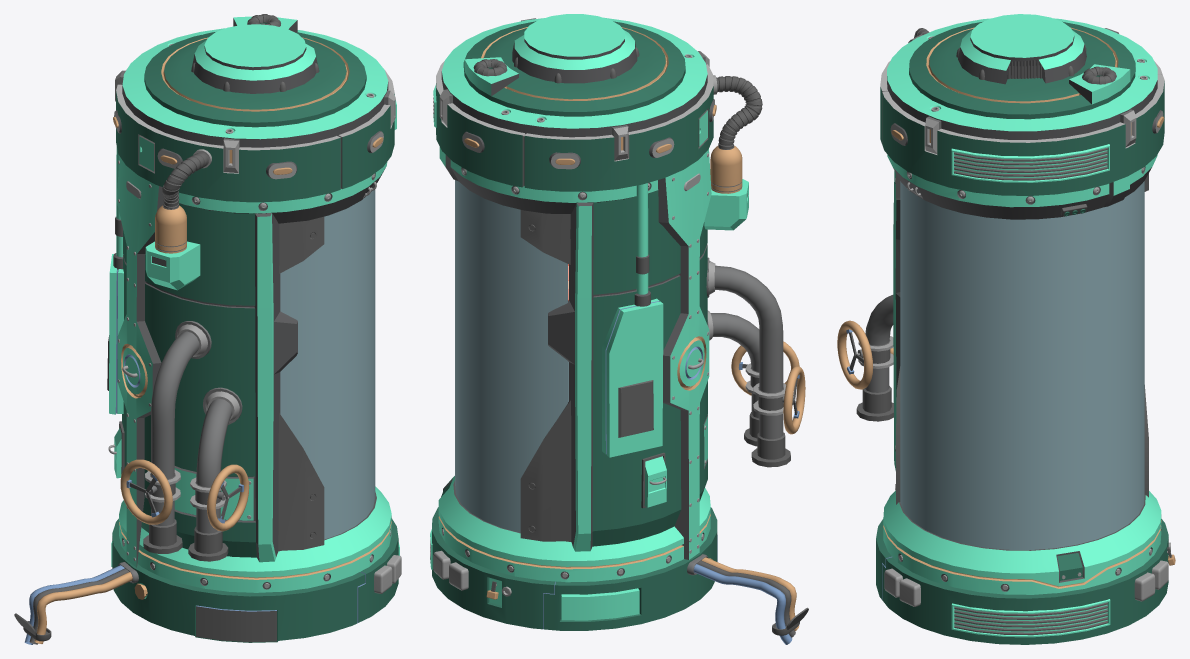
Rendered from brainMachine555555.fbx.
3 views of the same model, side by side, from view 1: azimuth 30°, elevation 25°; view 2: azimuth 150°, elevation 25°; view 3: azimuth 270°, elevation 25° (orthographic). The views are drawn at different scales.
Visible parts, largest first — view 1: Capsule:polySurface92.005, Capsule:Glass.005, Capsule:polySurface115.005, Capsule:polySurface106.005, Capsule:polySurface108.005, Capsule:polySurface89.005, Capsule:polySurface91.005, Capsule:polySurface107.005, Capsule:pCylinder106.005, Capsule:polySurface94.005, Capsule:polySurface54.011, Capsule:polySurface104.005 (+11 smaller); view 2: Capsule:Glass.005, Capsule:polySurface92.005, Capsule:polySurface106.005, Capsule:polySurface115.005, Capsule:polySurface91.005, Capsule:polySurface89.005, Capsule:polySurface108.005, Capsule:polySurface107.005, Capsule:polySurface94.005, Capsule:polySurface14.005, Capsule:pCylinder106.005, Capsule:polySurface54.011 (+12 smaller); view 3: Capsule:Glass.005, Capsule:polySurface89.005, Capsule:polySurface106.005, Capsule:polySurface108.005, Capsule:polySurface115.005, Capsule:polySurface107.005, Capsule:pCylinder106.005, Capsule:polySurface104.005, Capsule:polySurface29.011, Capsule:polySurface29.010, Capsule:polySurface92.005, Capsule:polySurface54.010 (+17 smaller).
Boxes of the visible parts, <box> form: Capsule:polySurface92.005: <box>122,203,297,562</box>; Capsule:Glass.005: <box>280,189,375,539</box>; Capsule:polySurface115.005: <box>111,518,398,642</box>; Capsule:polySurface106.005: <box>116,68,394,202</box>; Capsule:polySurface108.005: <box>144,16,366,127</box>; Capsule:polySurface89.005: <box>119,486,391,592</box>; Capsule:polySurface91.005: <box>116,156,163,567</box>; Capsule:polySurface107.005: <box>122,28,388,147</box>; Capsule:pCylinder106.005: <box>192,24,317,93</box>; Capsule:polySurface94.005: <box>278,216,324,551</box>; Capsule:polySurface54.011: <box>151,331,199,525</box>; Capsule:polySurface104.005: <box>179,162,387,223</box>; Capsule:Glass.005: <box>455,180,568,532</box>; Capsule:polySurface92.005: <box>548,190,707,551</box>; Capsule:polySurface106.005: <box>436,61,713,191</box>; Capsule:polySurface115.005: <box>432,507,717,630</box>; Capsule:polySurface91.005: <box>658,149,711,559</box>; Capsule:polySurface89.005: <box>438,476,710,582</box>; Capsule:polySurface108.005: <box>463,21,685,116</box>; Capsule:polySurface107.005: <box>441,17,707,137</box>; Capsule:polySurface94.005: <box>520,210,571,541</box>; Capsule:polySurface14.005: <box>602,298,663,457</box>; Capsule:pCylinder106.005: <box>512,14,637,83</box>; Capsule:polySurface54.011: <box>714,265,783,439</box>; Capsule:Glass.005: <box>900,181,1144,549</box>; Capsule:polySurface89.005: <box>883,490,1161,594</box>; Capsule:polySurface106.005: <box>880,60,1164,195</box>; Capsule:polySurface108.005: <box>909,21,1135,119</box>; Capsule:polySurface115.005: <box>876,519,1168,644</box>; Capsule:polySurface107.005: <box>887,18,1157,139</box>; Capsule:pCylinder106.005: <box>958,14,1086,84</box>; Capsule:polySurface104.005: <box>887,154,1157,219</box>; Capsule:polySurface29.011: <box>951,144,1109,182</box>; Capsule:polySurface29.010: <box>951,599,1110,637</box>; Capsule:polySurface92.005: <box>893,170,900,470</box>; Capsule:polySurface54.010: <box>865,295,893,392</box>.
Size of the model in its own units: 429 by 634 by 345.
Materials: 12 (1 with a texture image).
